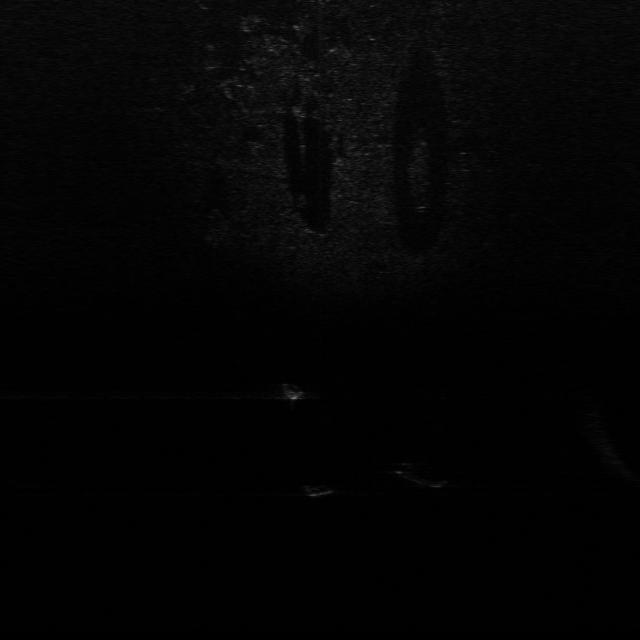cube: (296, 482, 336, 501)
square cage: (276, 380, 312, 401)
tyre: (390, 459, 454, 490)
